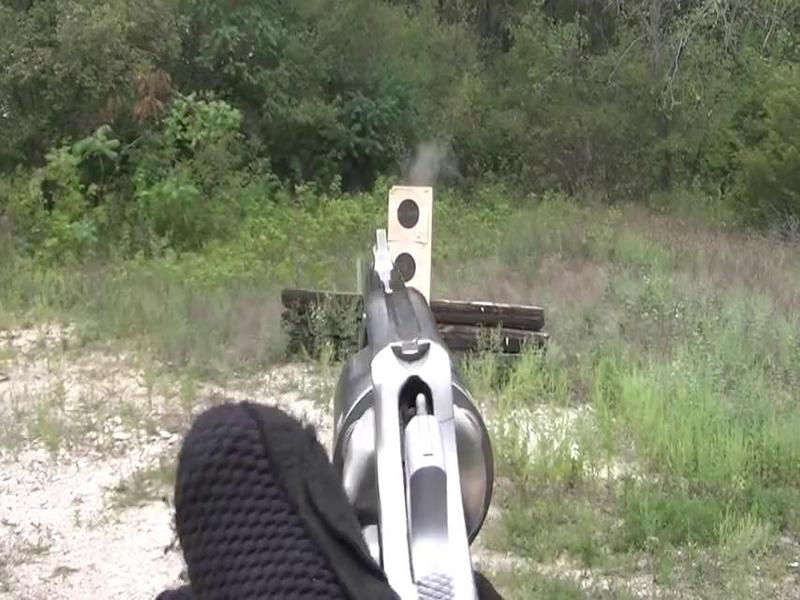Revolver: (274, 244, 512, 591)
